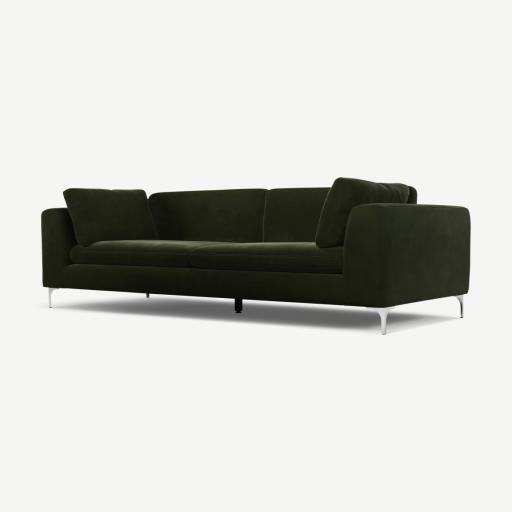back_cushion: (64, 188, 327, 243)
base: (62, 264, 376, 306)
left_arm: (319, 204, 470, 306)
legs: (367, 306, 395, 334), (48, 288, 59, 308), (454, 295, 463, 318), (234, 299, 242, 313)
right_arm: (42, 208, 76, 288)
seat_cushion: (70, 240, 342, 274)
two-seater: (0, 0, 511, 512)
